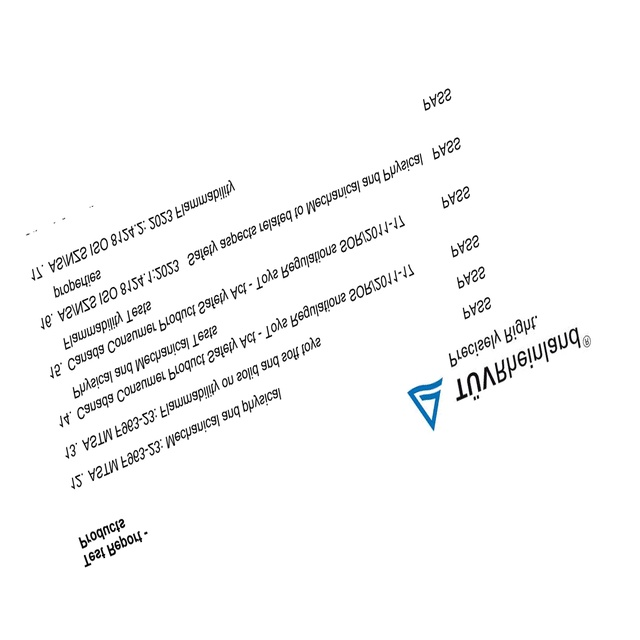tuv_rheinland: (406, 323, 593, 434)
